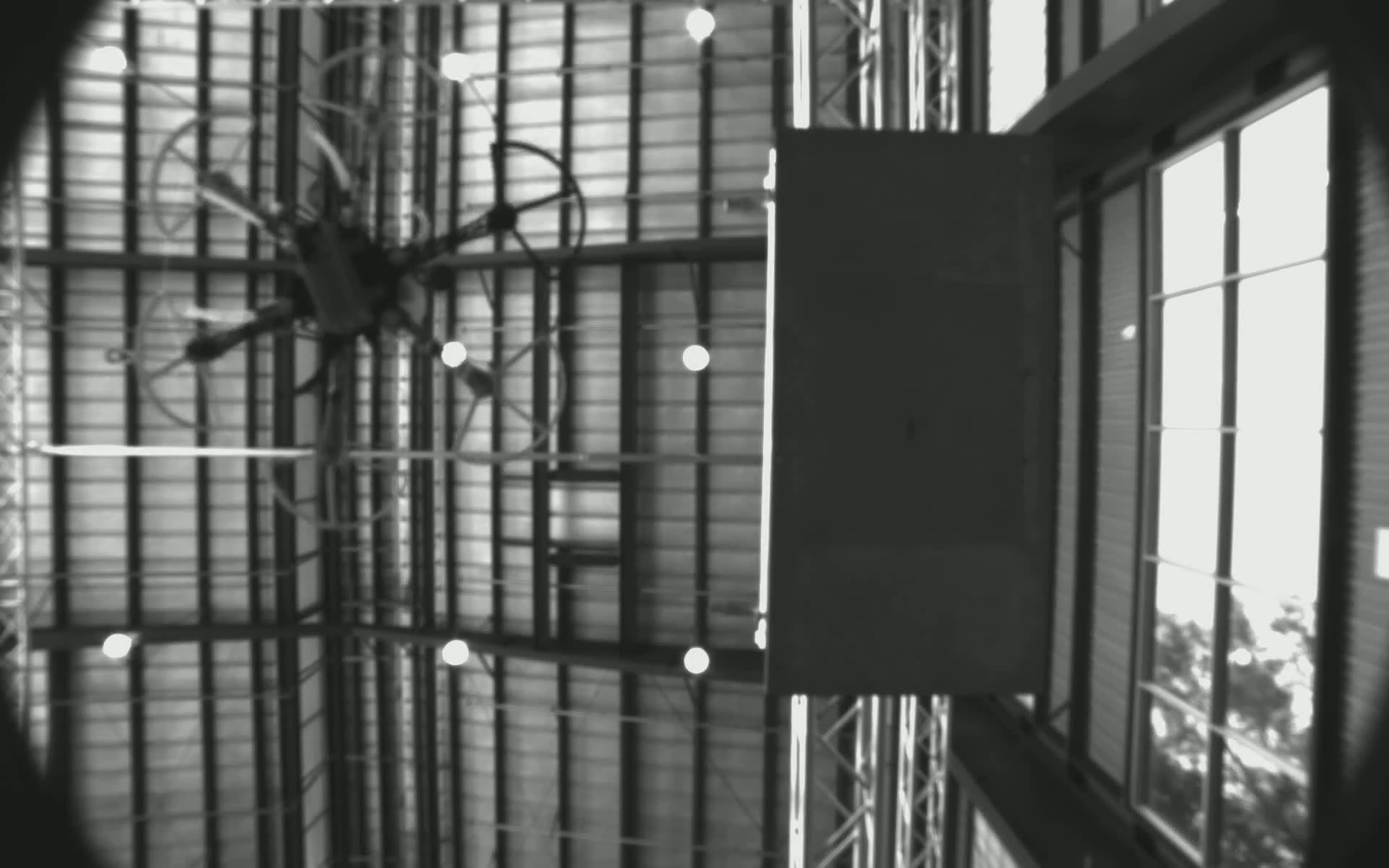drone: (122, 31, 609, 541)
